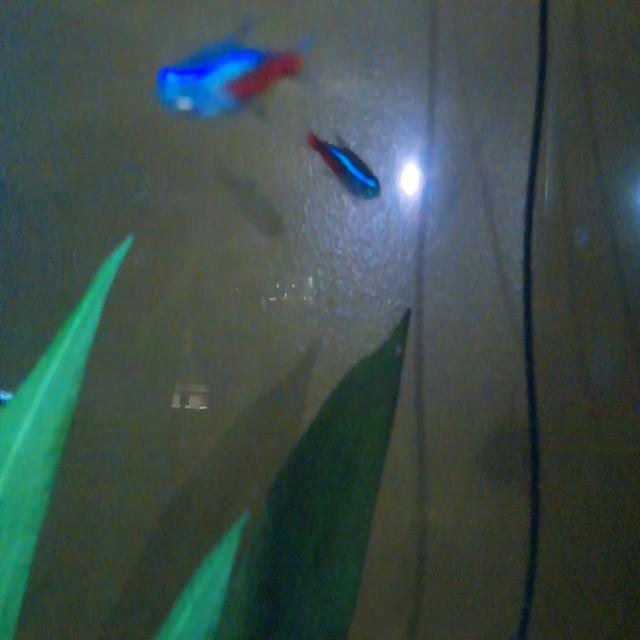fish: (158, 22, 307, 127), (308, 111, 389, 219)
